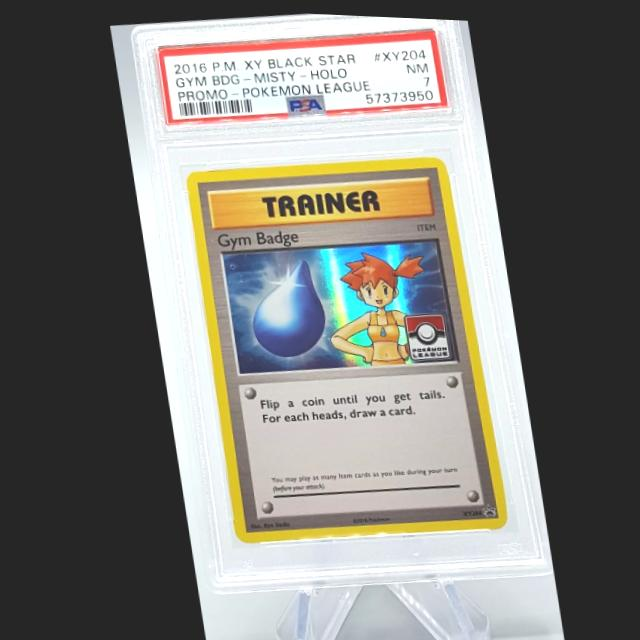card: (182, 151, 503, 540)
psa_label: (154, 25, 449, 123)
psa_slab: (128, 11, 547, 593)
